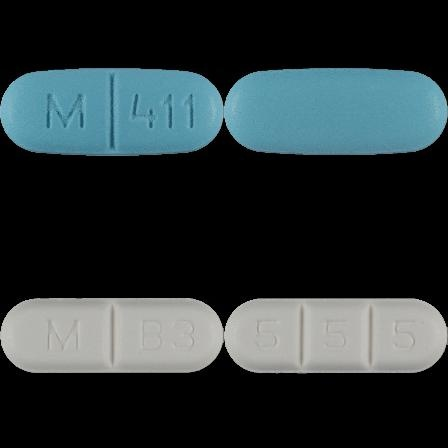43353-600: (0, 0, 224, 224)
